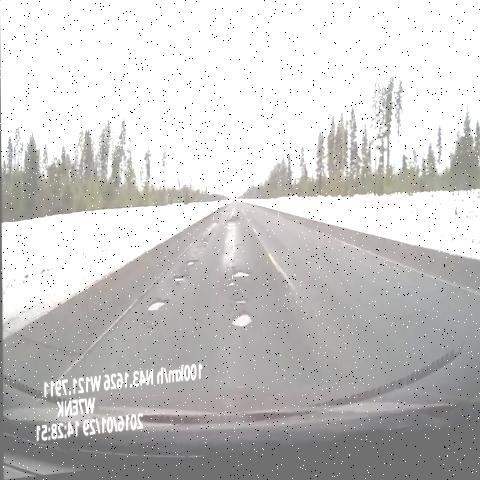pothole: (229, 301, 255, 342), (226, 271, 254, 300), (144, 301, 171, 322), (168, 272, 192, 295), (223, 212, 242, 240), (181, 256, 201, 275), (200, 238, 211, 259)
